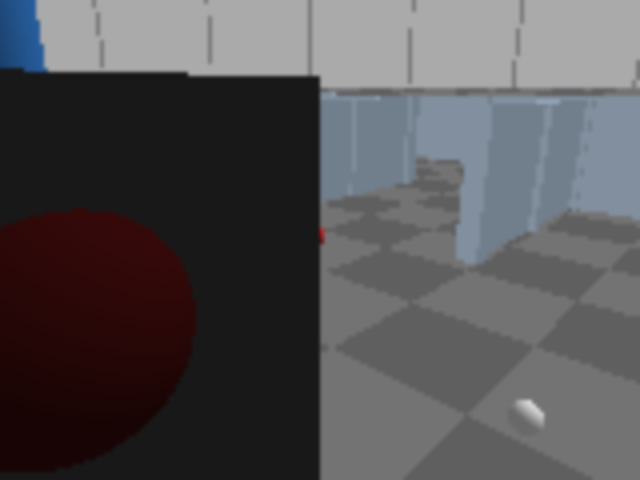obstacle: (203, 140, 233, 169)
puck: (501, 390, 552, 448), (301, 223, 329, 251)
